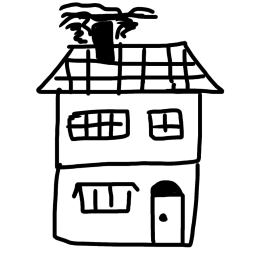closed_window: (67, 175, 139, 222), (63, 102, 134, 149), (143, 102, 188, 146)
door: (145, 172, 191, 251)
roof: (26, 38, 232, 102)
smoking_chimney: (56, 0, 159, 67)
wall: (49, 83, 207, 250)
